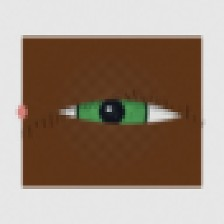hemorrhage_spot: (85, 78, 150, 130)
